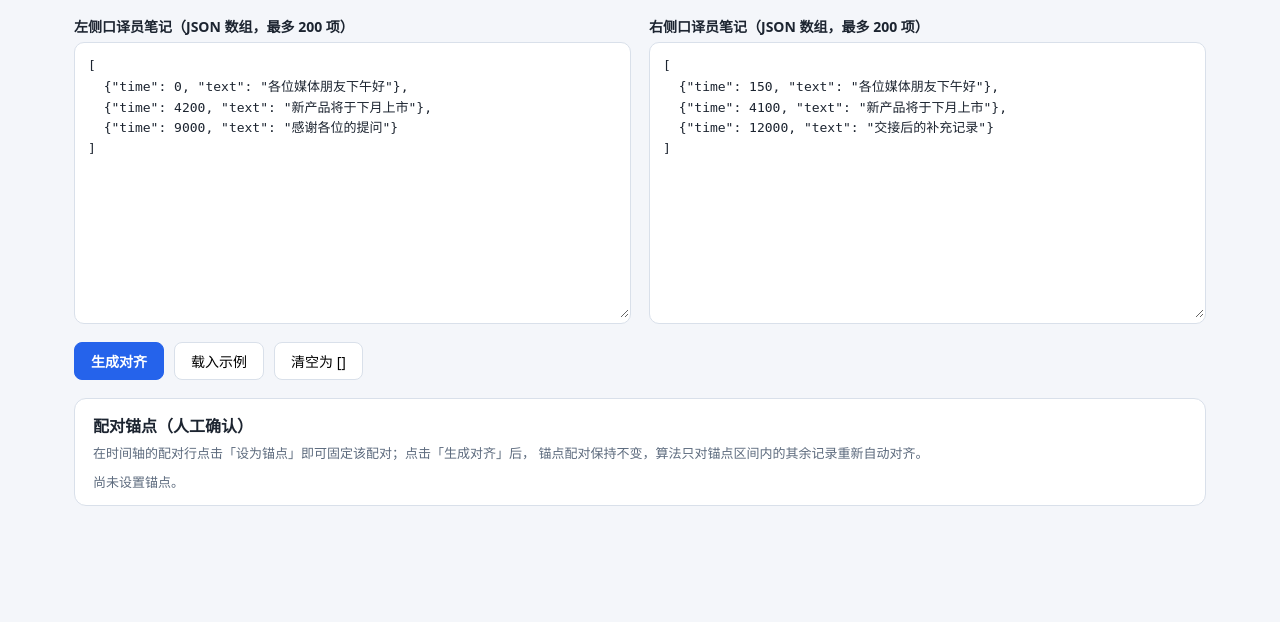
it: App › renders the timeline row by row with costs after a valid run
Click the button with test id "submit" at (119, 361), box [74, 342, 164, 380]
(page scrolled)
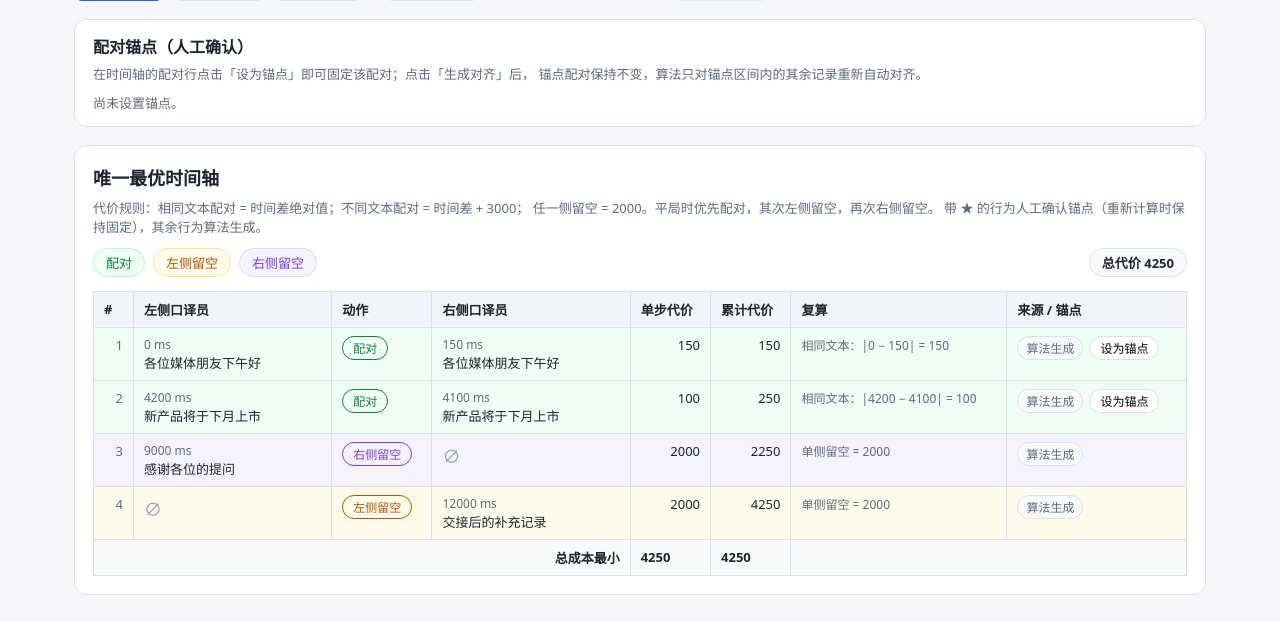
Now the element with test id "result-panel" is shown
Now the number of rows with test id "timeline-row" is 4, box [94, 327, 1186, 380]; [94, 380, 1186, 433]; [94, 433, 1186, 486]; [94, 486, 1186, 539]
Now the text with test id "total-cost" reads "4250", box [1144, 254, 1174, 272]
